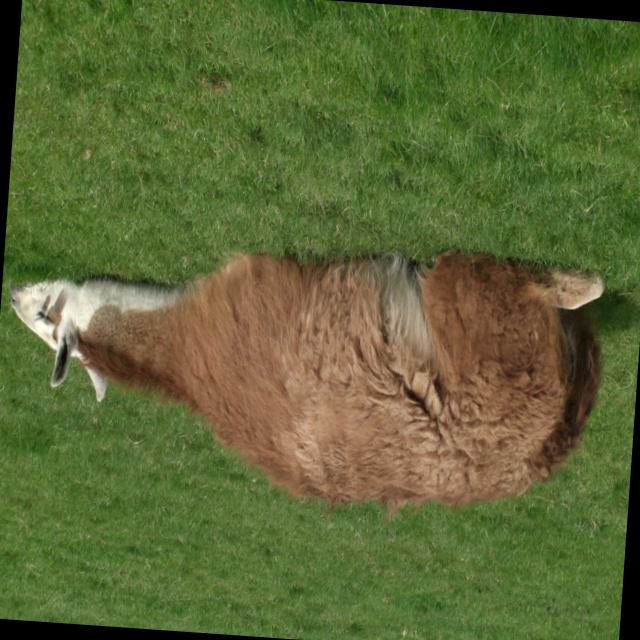alpaca: (0, 230, 607, 530)
